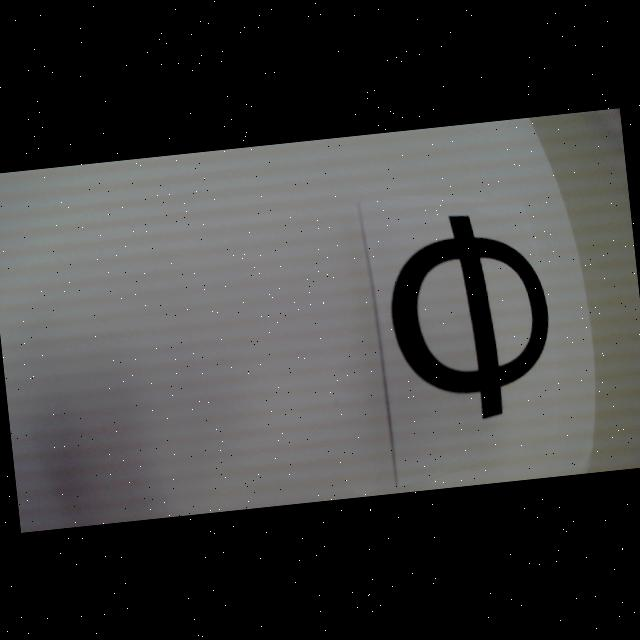PHI: (382, 206, 559, 427)
